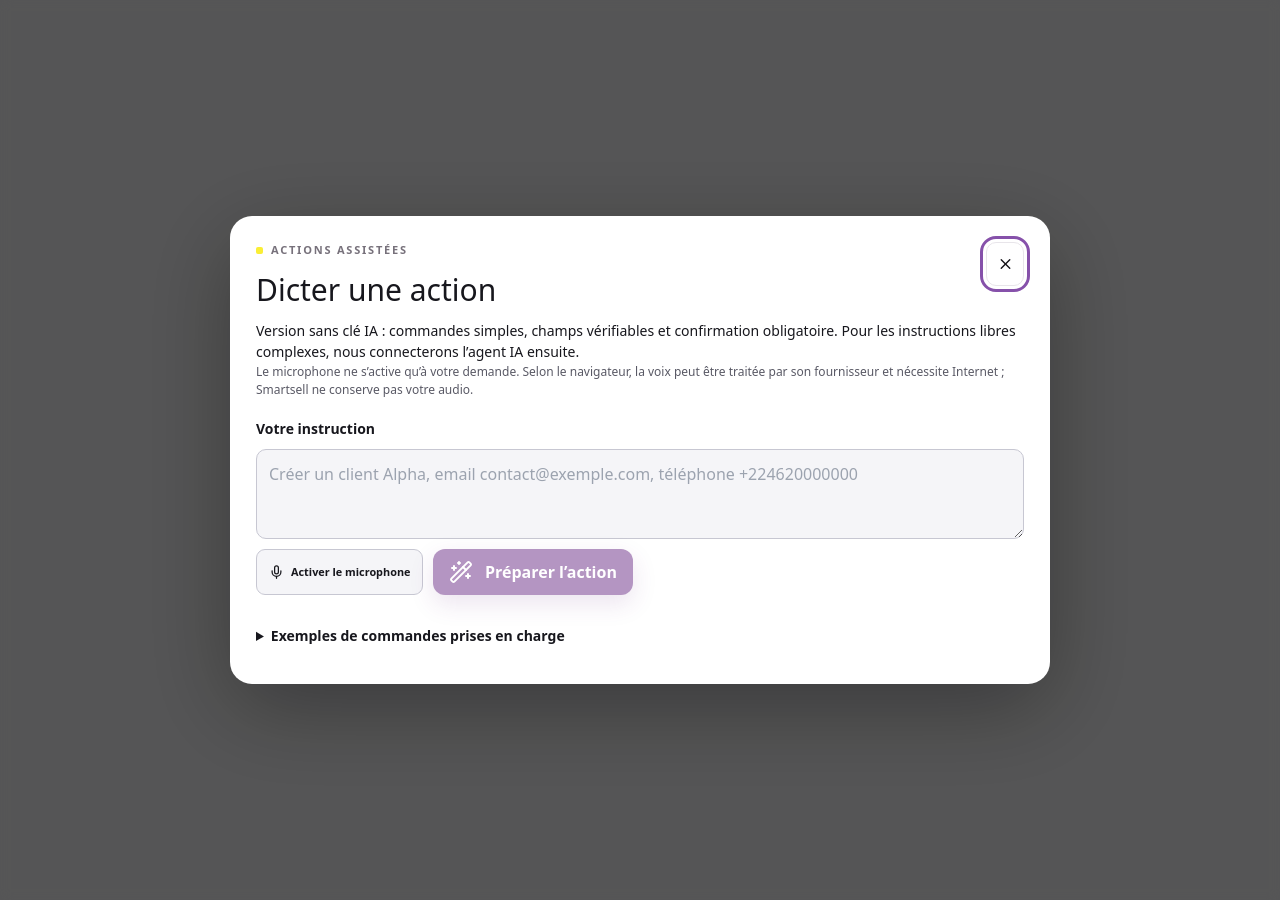
Test: actions assistées sans clé IA › retire la confirmation si les champs sont modifiés
Replace the text in the text box labelled "Votre instruction" with "Créer un client Alpha" at (640, 494), box [256,449,1024,539]
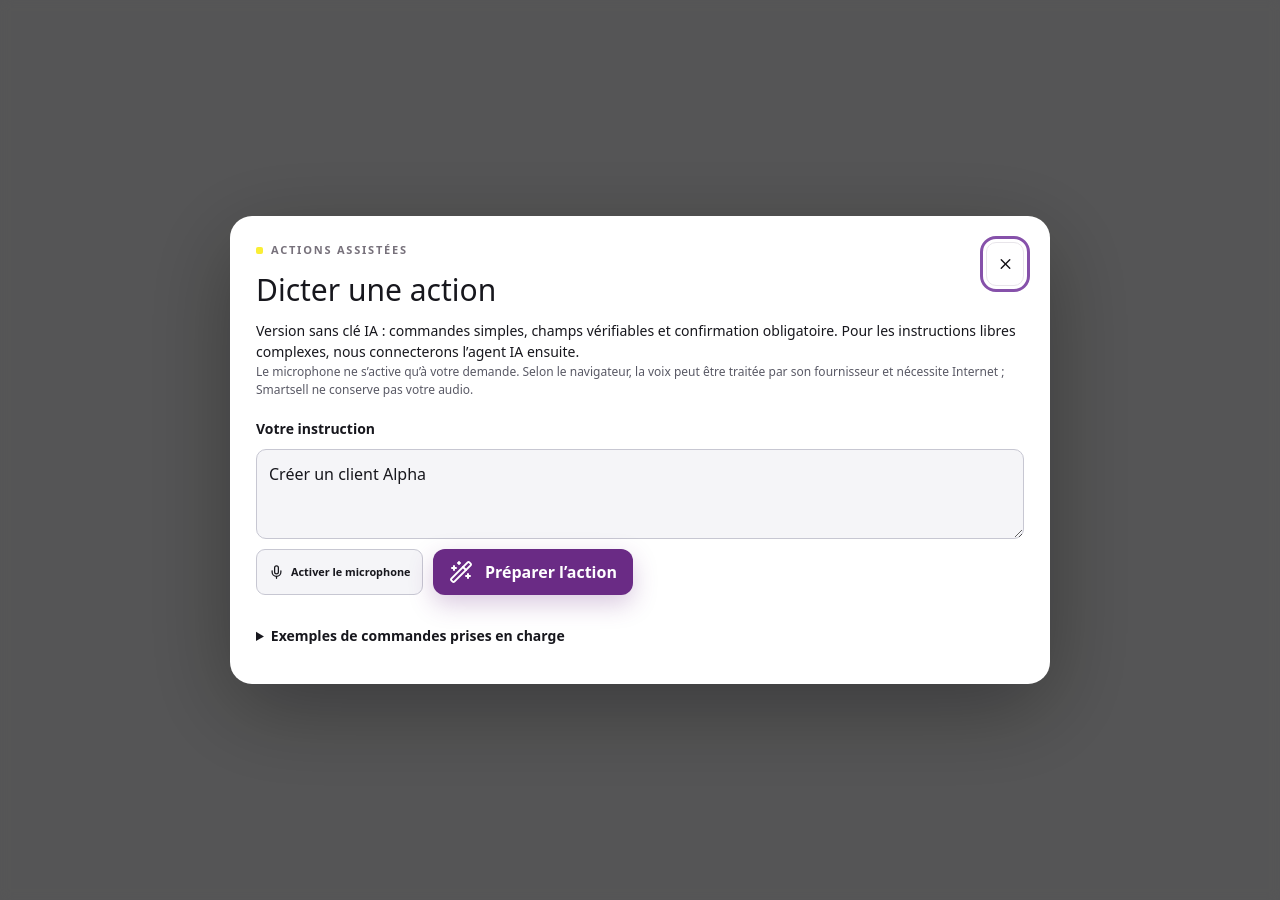
Click the button "Préparer l’action" at (533, 572), box [434,549,633,595]
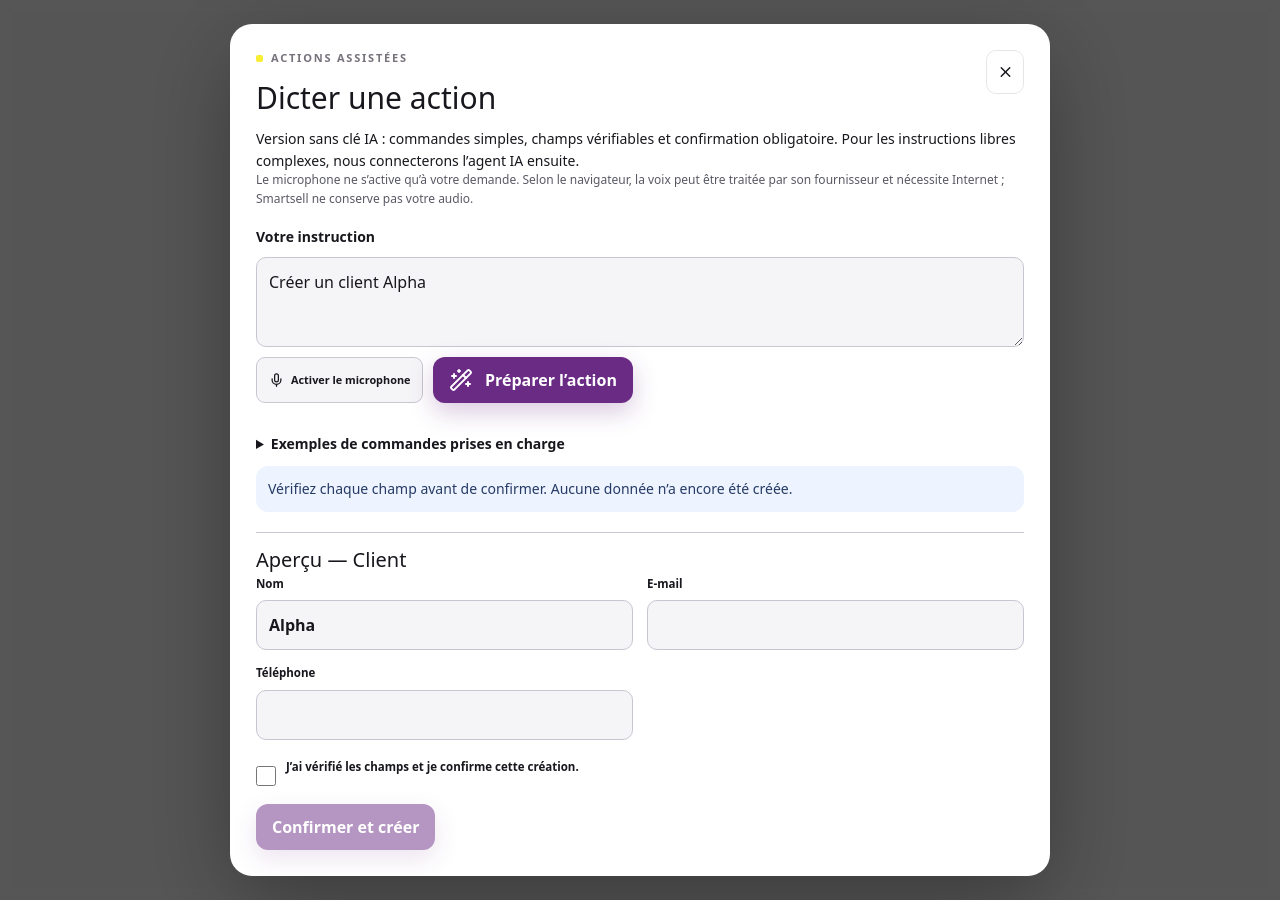
Now the heading "Aperçu — Client" is shown, box [256,546,406,573]
Click the checkbox labelled "J’ai vérifié les champs et je confirme cette création." at (266, 776), box [256,766,276,786]
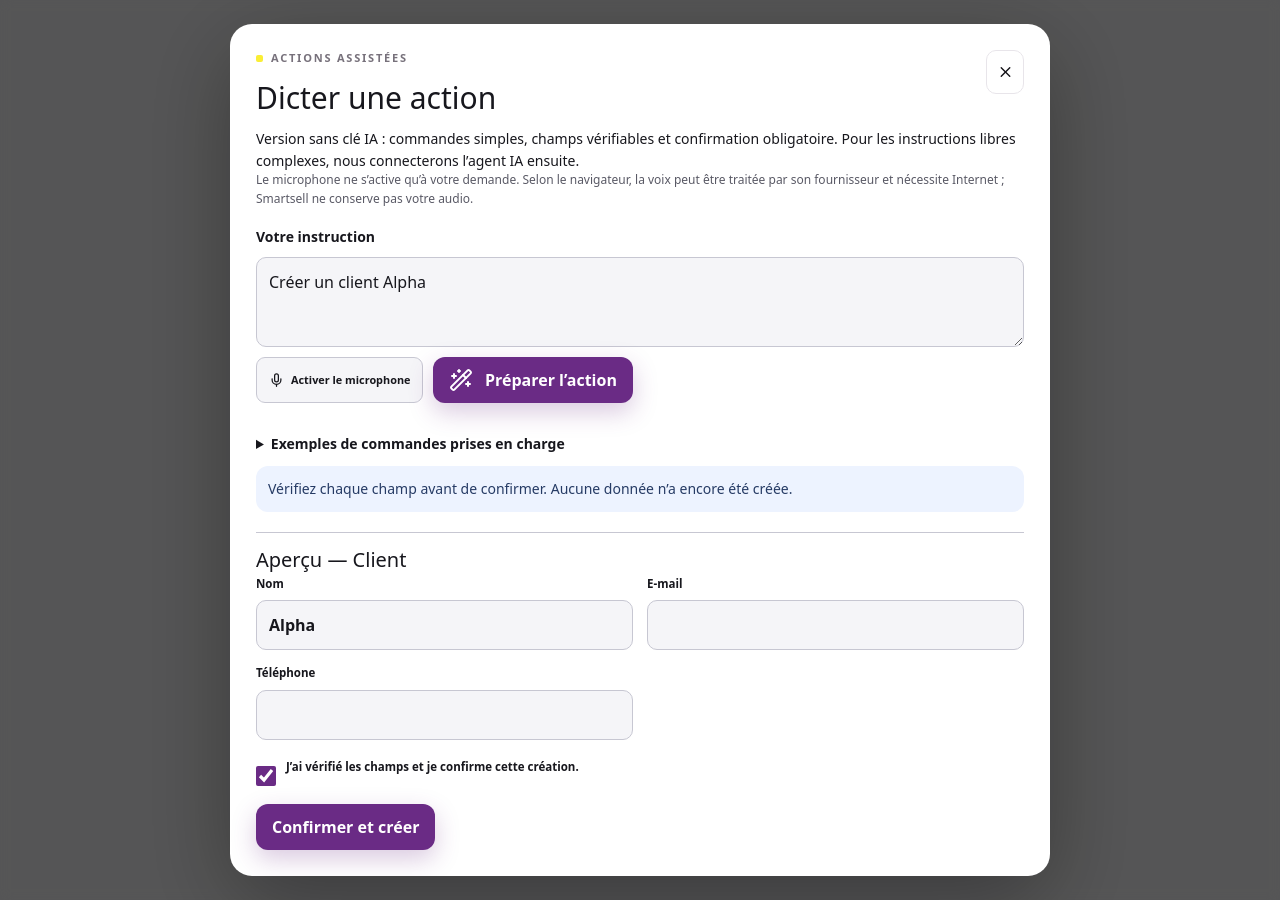
Replace the text in the field labelled "Nom" with "Beta" at (444, 625), box [256,600,633,650]
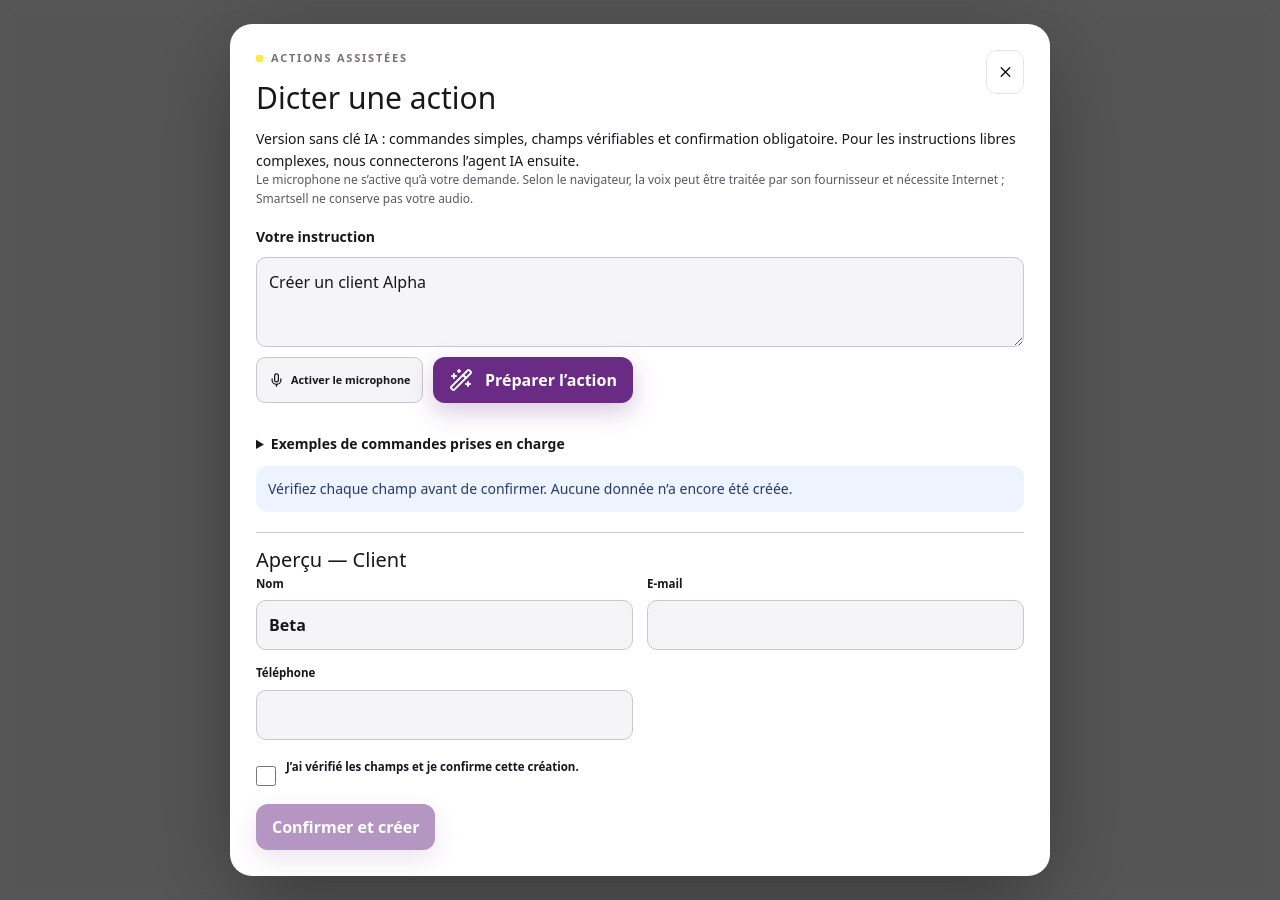
Now the button "Confirmer et créer" is disabled, box [256,804,436,850]
